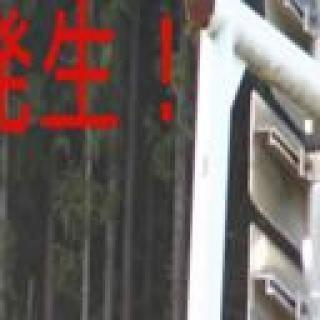fire: (0, 269, 7, 320)
